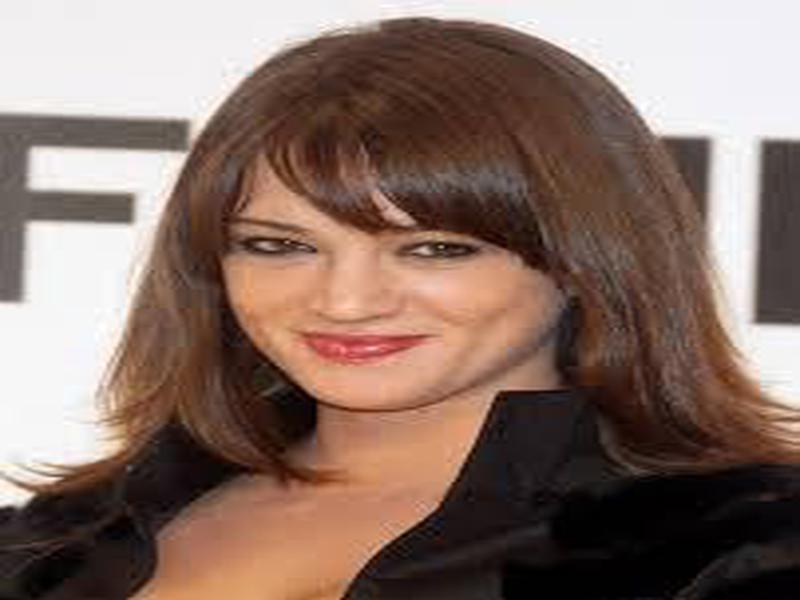without_mask: (215, 179, 563, 414)
